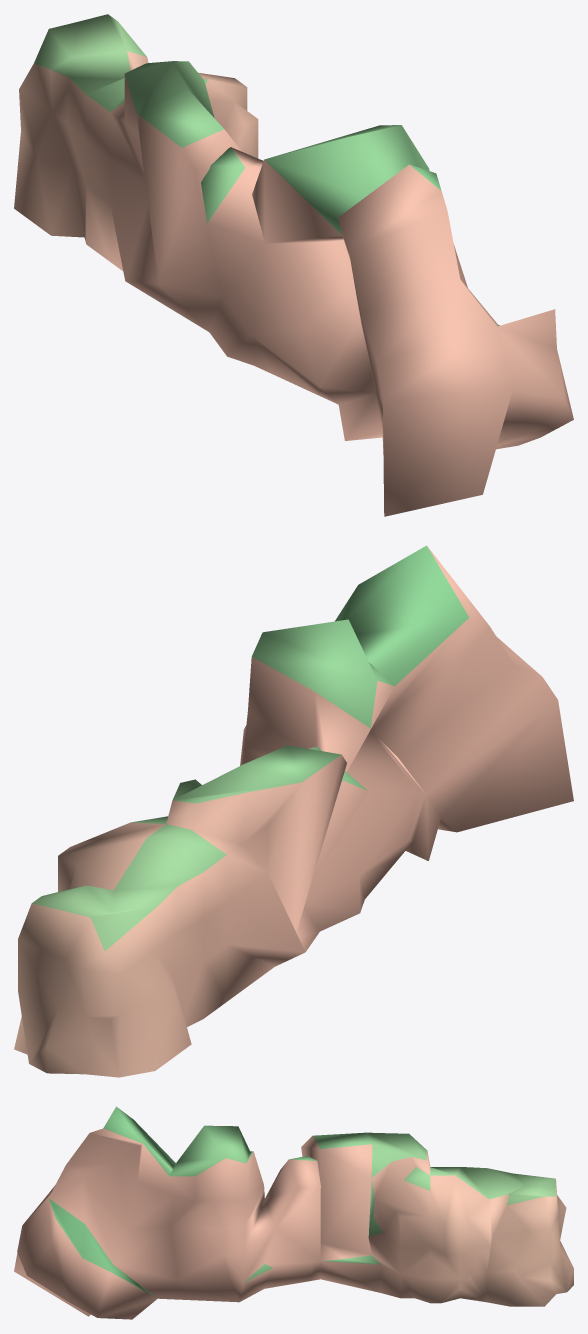
The model's file is Falaise_smooth.fbx.
3 views of the same model, one above another, from view 1: azimuth 30°, elevation 25°; view 2: azimuth 150°, elevation 25°; view 3: azimuth 270°, elevation 25° (orthographic). The views are drawn at different scales.
Visible parts, largest first — view 1: Falaise_cote_Smooth; view 2: Falaise_cote_Smooth; view 3: Falaise_cote_Smooth.
Part boxes in pixels (<box>): Falaise_cote_Smooth: <box>14,14,573,516</box>; Falaise_cote_Smooth: <box>14,545,573,1077</box>; Falaise_cote_Smooth: <box>14,1106,573,1319</box>.
Size of the model in its own units: 12.99 by 18.91 by 49.25.
